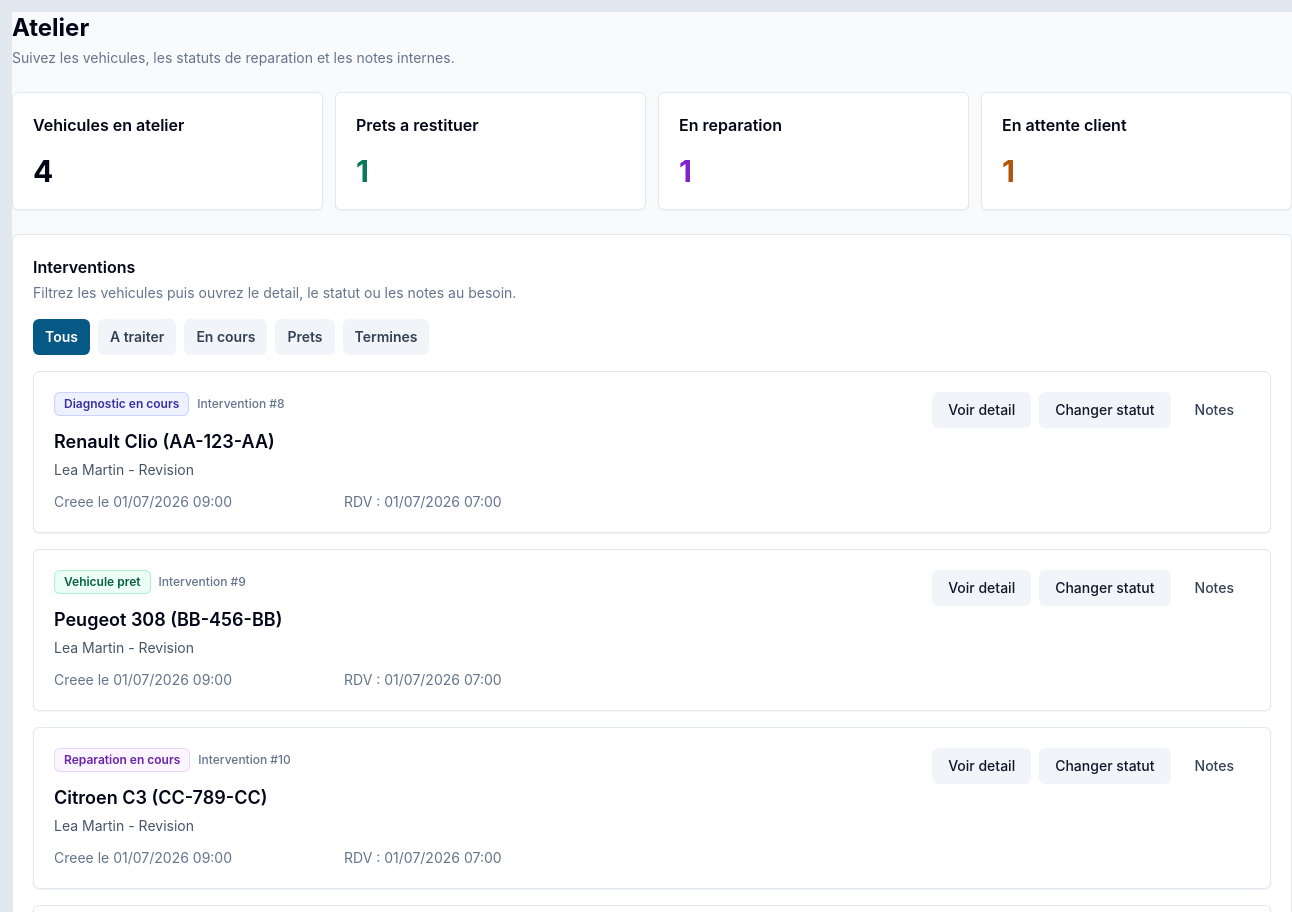
InterventionsPage › affiche le detail intervention avec la timeline
This screenshot has width=1292, height=912.
Click the button "Voir detail" in the row of "Diagnostic en cours": x=982, y=410 [932,392,1031,428]
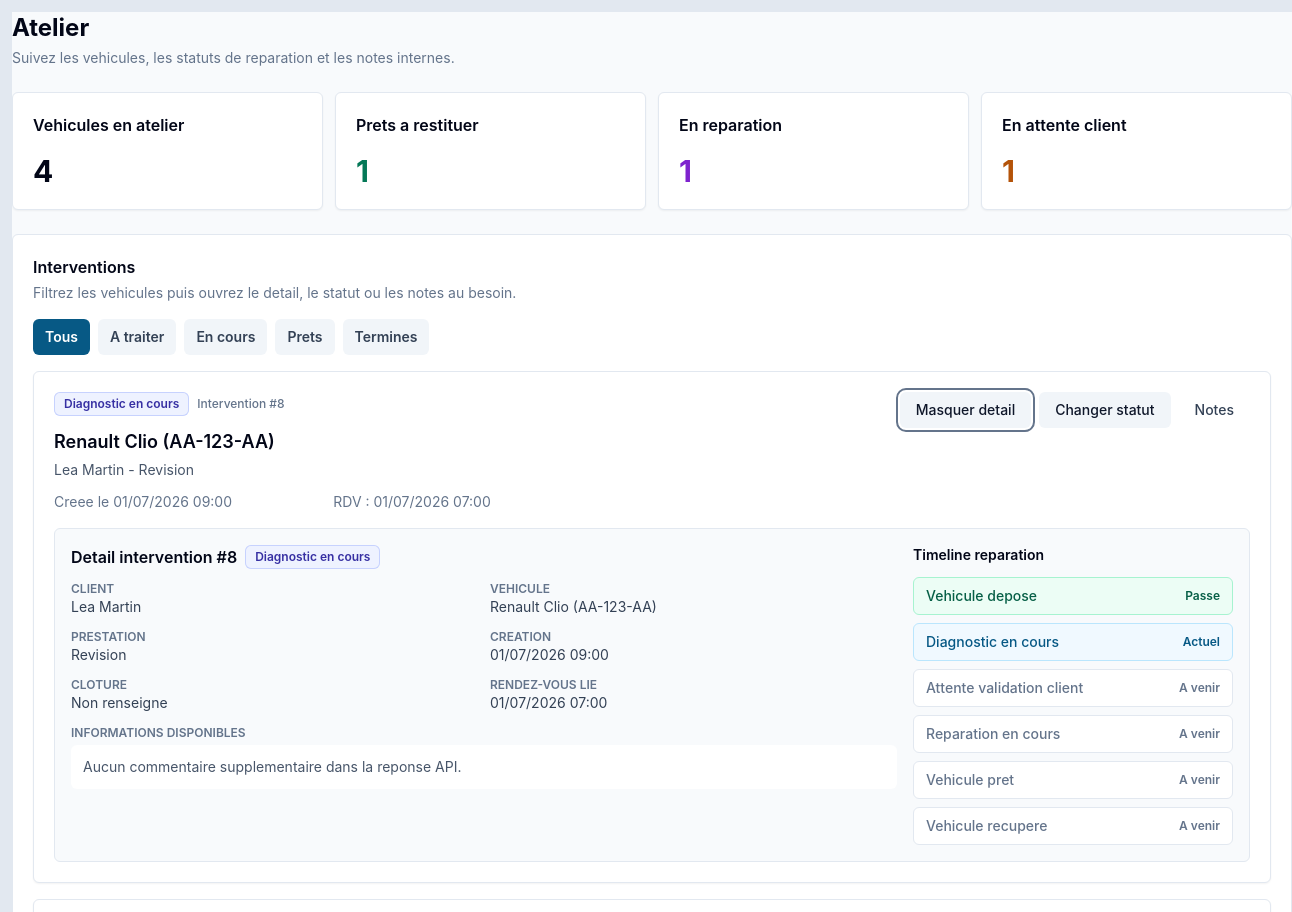
Result: the heading "Timeline reparation" is shown at [913,546,1044,563]
Result: the text "Vehicule depose" is shown at [926,586,1037,606]
Result: the text "Reparation en cours" is shown at [926,724,1060,744]
